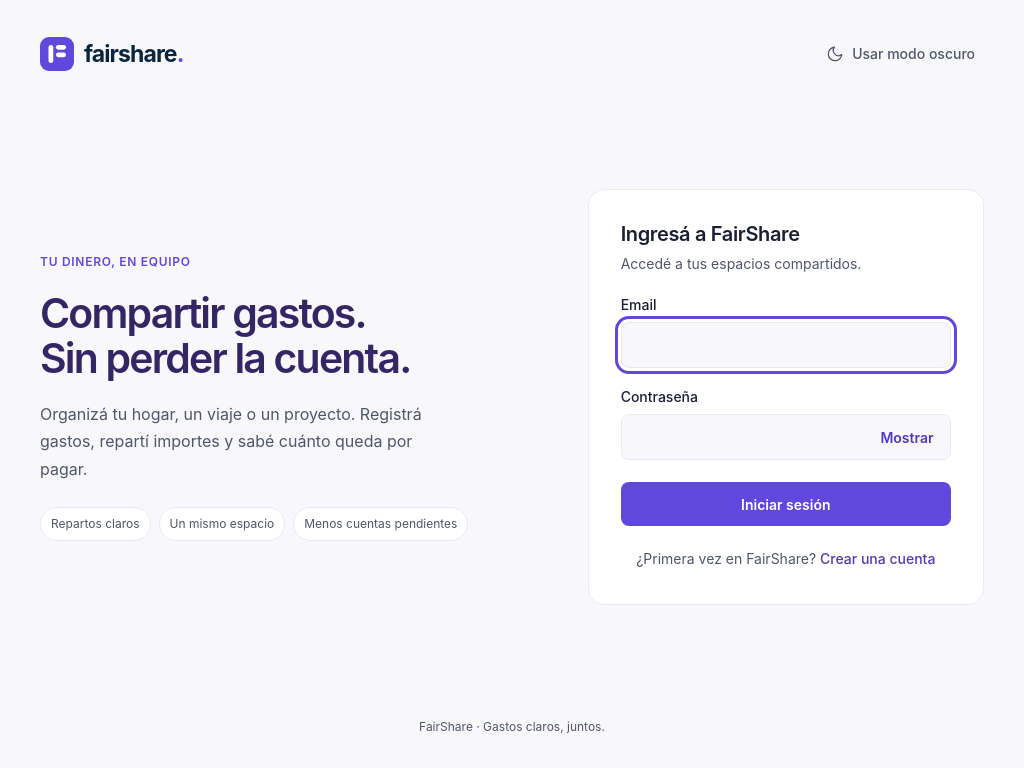
Scenario: login › signs out from the user menu and confirms it on the login screen
Type "ana@example.test" into the field labelled "Email" at (786, 345), box [621,322,951,368]
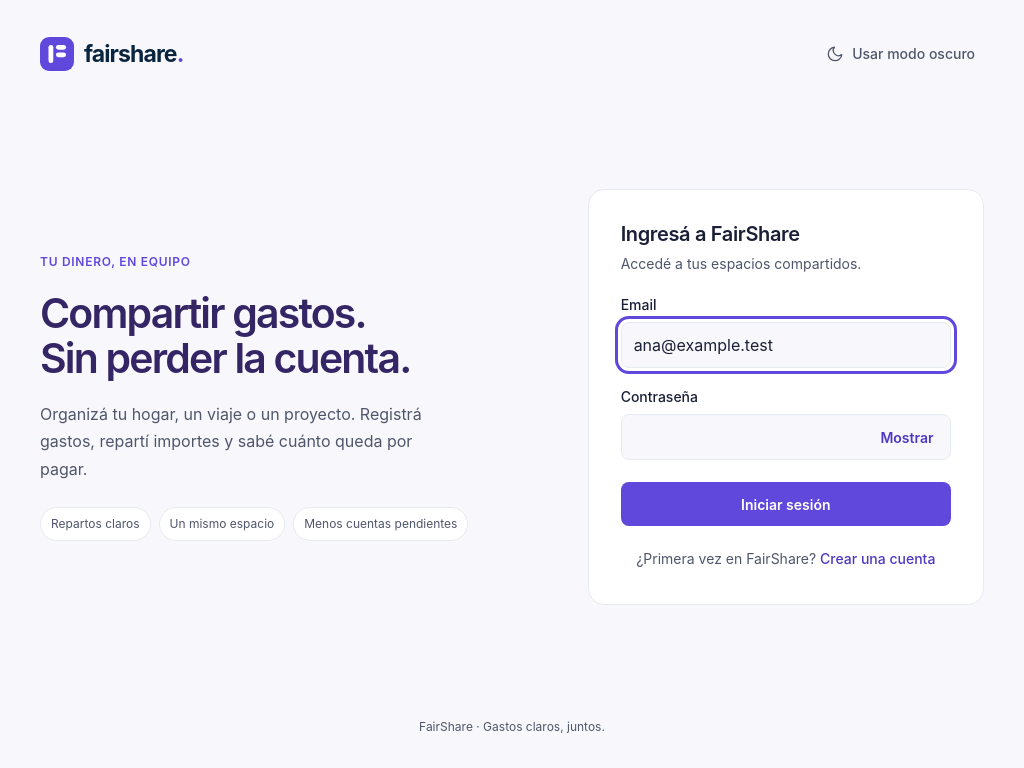
Type "password-test" into the password field labelled "Contraseña" at (786, 437), box [621,414,951,460]
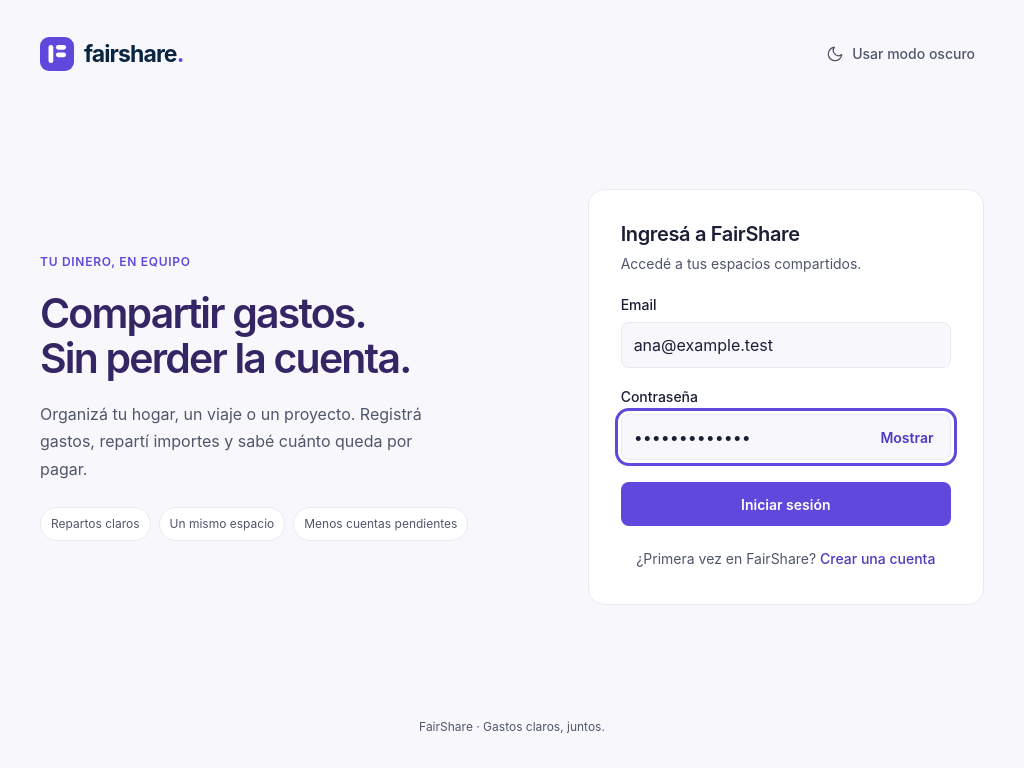
Click the button "Iniciar sesión" at (786, 504), box [621,482,951,526]
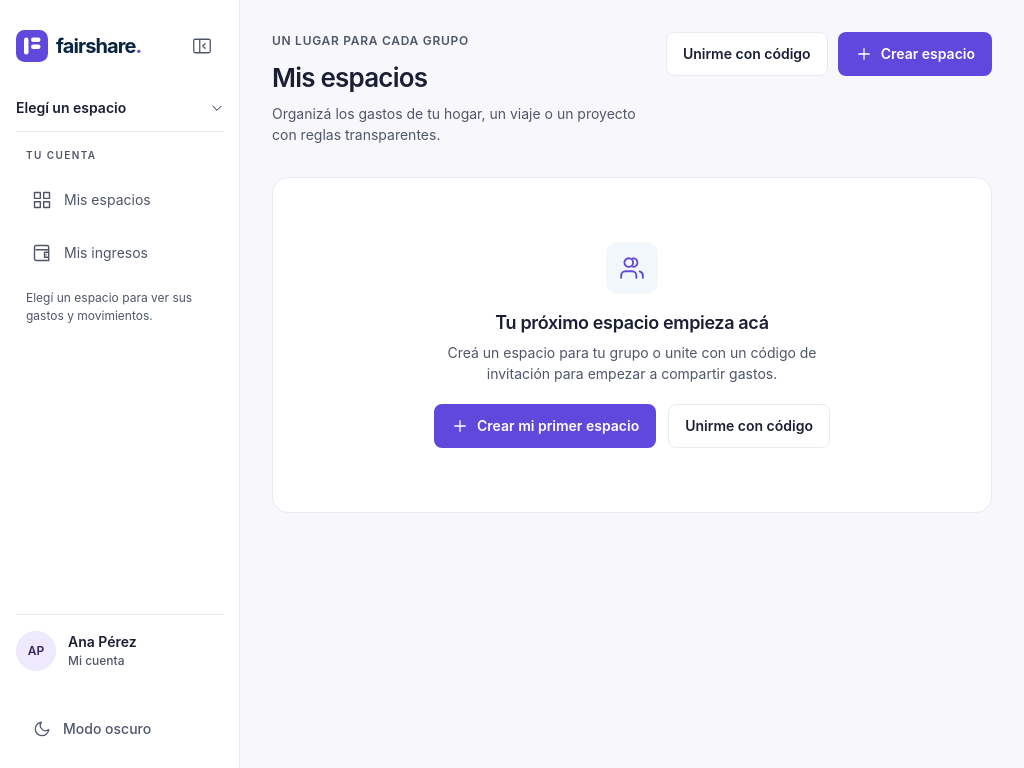
Click the heading named "Cuenta de Ana" at (96, 661), box [68,653,124,668]
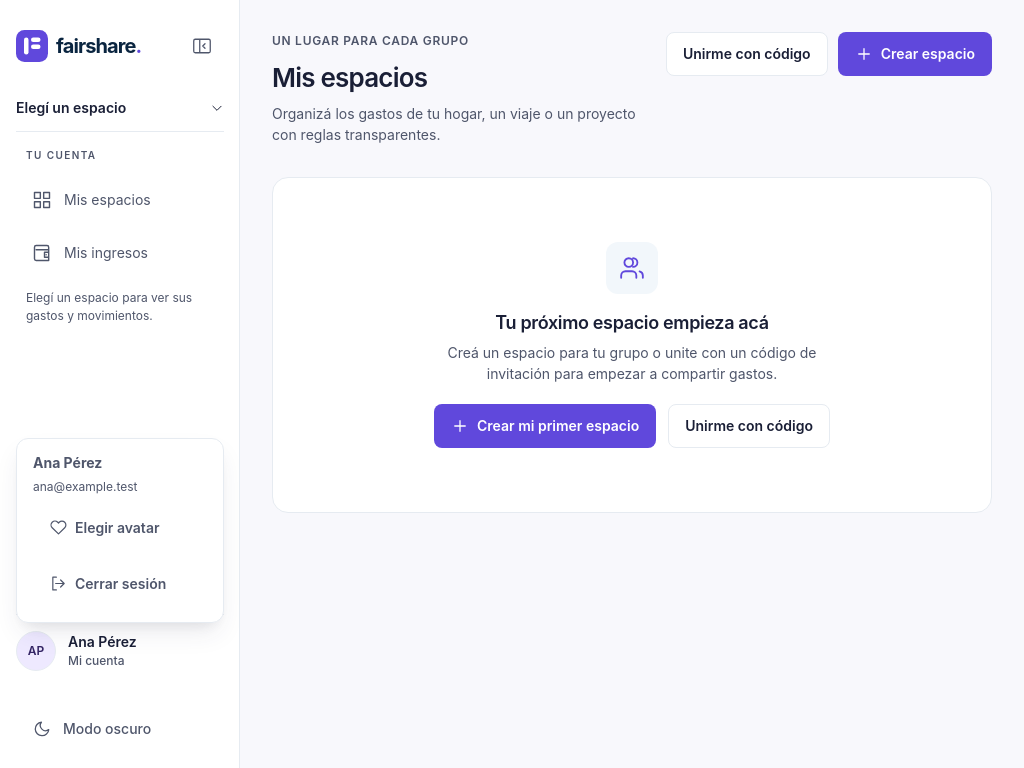
Click the button "Cerrar sesión" at (120, 584), box [33,562,207,606]
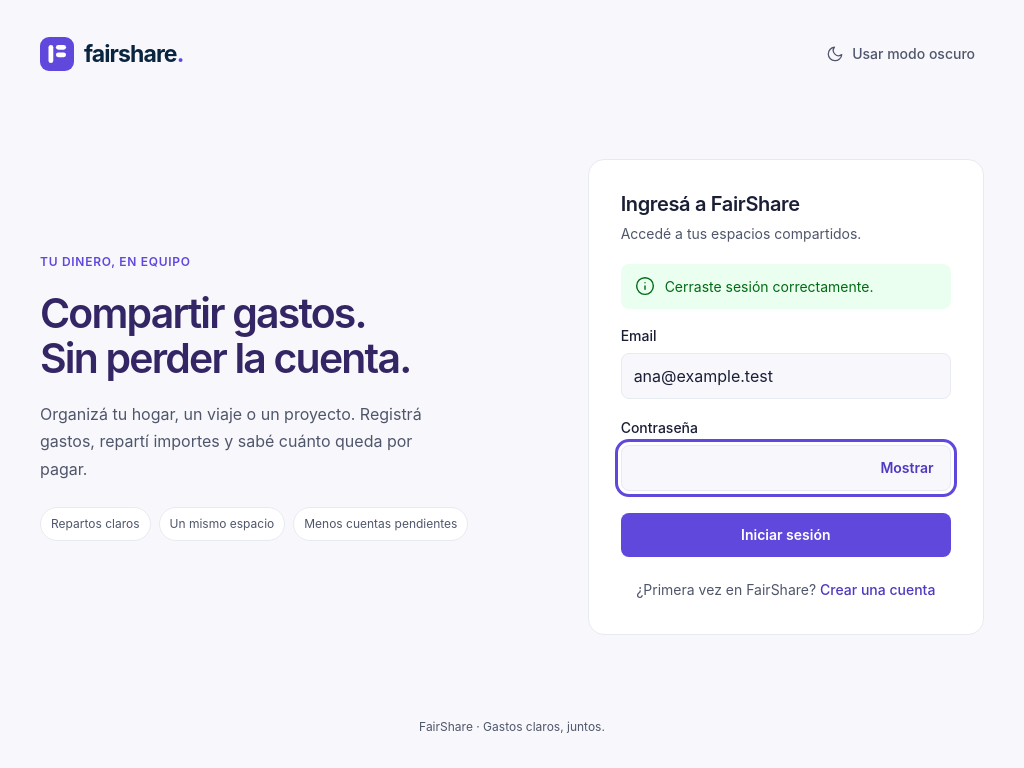
Result: the text "Cerraste sesión correctamente." is shown at [665,276,873,297]
Result: the field labelled "Email" holds "ana@example.test" at [621,353,951,399]
